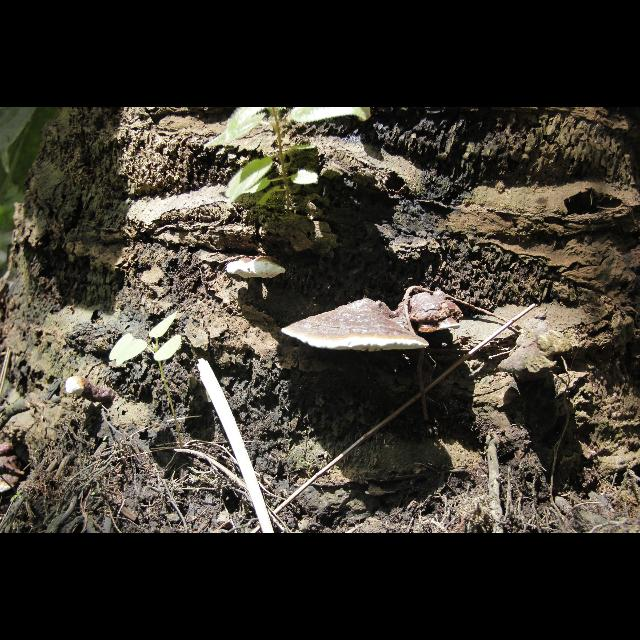ganoderma: (281, 299, 431, 354), (399, 290, 465, 334), (227, 256, 287, 280)
primordium: (65, 376, 91, 400)
